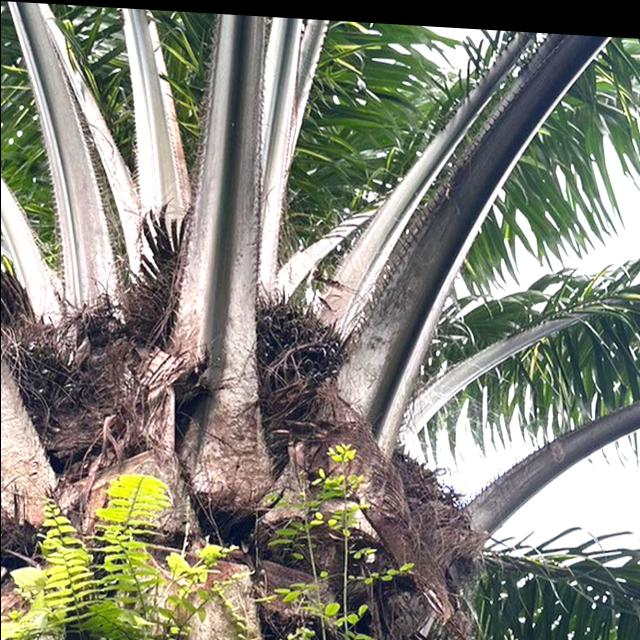unripe: (232, 278, 364, 445), (0, 299, 107, 454)
